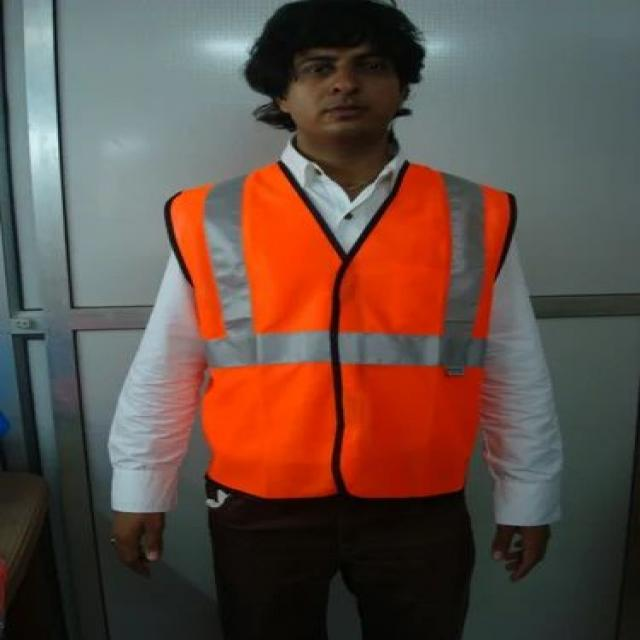Reflective-Jacket: (155, 153, 534, 507)
